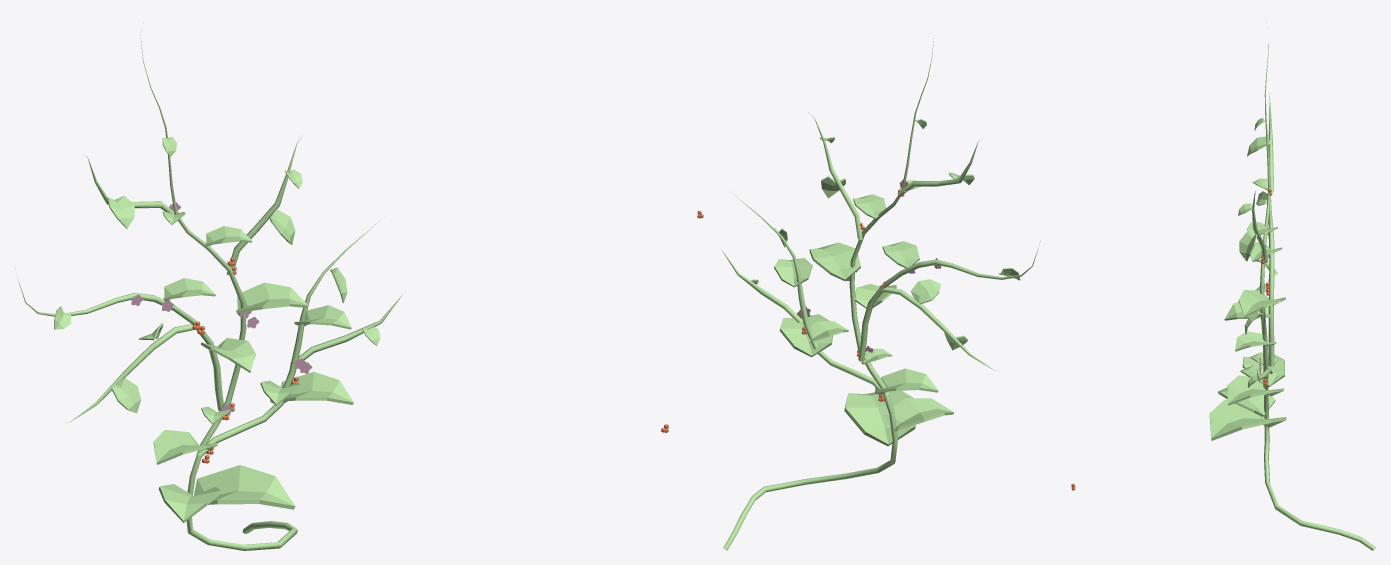
The model's file is Level3.2.fbx.
3 renders of one model, left to right at view 1: azimuth 30°, elevation 25°; view 2: azimuth 150°, elevation 25°; view 3: azimuth 270°, elevation 25°, orthographic. The views are drawn at different scales.
Parts seen in each view (by area): view 1: Stem1.001, Leaf1.003, Stem1.002, Leaf1.002, Stem1.004, Leaf1.013, Leaf1.005, Leaf1.001, Leaf1.004, Stem1.005, Leaf1.012, Leaf1.010; view 2: Stem1.001, Leaf1.003, Leaf1.005, Stem1.004, Leaf1.013, Stem1.002, Leaf1.002, Leaf1.001, Leaf1.012, Leaf1.010, Stem1.005, Stem1.007 (+6 smaller); view 3: Stem1.001, Leaf1.003, Leaf1.002, Stem1.004, Leaf1.013, Leaf1.005, Leaf1.012, Leaf1.001.
Boxes of the visible parts, bbox=[...] form: Stem1.001: bbox=[140, 35, 297, 550]; Leaf1.003: bbox=[194, 465, 295, 509]; Stem1.002: bbox=[196, 221, 379, 456]; Leaf1.002: bbox=[270, 372, 353, 404]; Stem1.004: bbox=[16, 274, 223, 410]; Leaf1.013: bbox=[236, 282, 308, 315]; Leaf1.005: bbox=[159, 484, 221, 522]; Leaf1.001: bbox=[153, 430, 217, 464]; Leaf1.004: bbox=[201, 338, 255, 372]; Stem1.005: bbox=[65, 324, 194, 423]; Leaf1.012: bbox=[294, 305, 351, 329]; Leaf1.010: bbox=[163, 278, 215, 301]; Stem1.001: bbox=[723, 35, 934, 550]; Leaf1.003: bbox=[844, 390, 915, 446]; Leaf1.005: bbox=[884, 398, 953, 431]; Stem1.004: bbox=[858, 241, 1040, 361]; Leaf1.013: bbox=[809, 242, 860, 280]; Stem1.002: bbox=[728, 189, 889, 394]; Leaf1.002: bbox=[779, 314, 832, 357]; Leaf1.001: bbox=[875, 368, 938, 395]; Leaf1.012: bbox=[774, 258, 812, 287]; Leaf1.010: bbox=[882, 241, 919, 268]; Stem1.005: bbox=[881, 287, 997, 370]; Stem1.007: bbox=[806, 110, 862, 239]; Stem1.001: bbox=[1260, 44, 1375, 550]; Leaf1.003: bbox=[1209, 399, 1286, 440]; Leaf1.002: bbox=[1227, 375, 1283, 405]; Stem1.004: bbox=[1268, 196, 1274, 366]; Leaf1.013: bbox=[1238, 290, 1285, 317]; Leaf1.005: bbox=[1217, 387, 1275, 416]; Leaf1.012: bbox=[1235, 331, 1276, 351]; Leaf1.001: bbox=[1242, 354, 1284, 386].
Bounding box in the file's own units: 2215 × 2461 × 1440.
